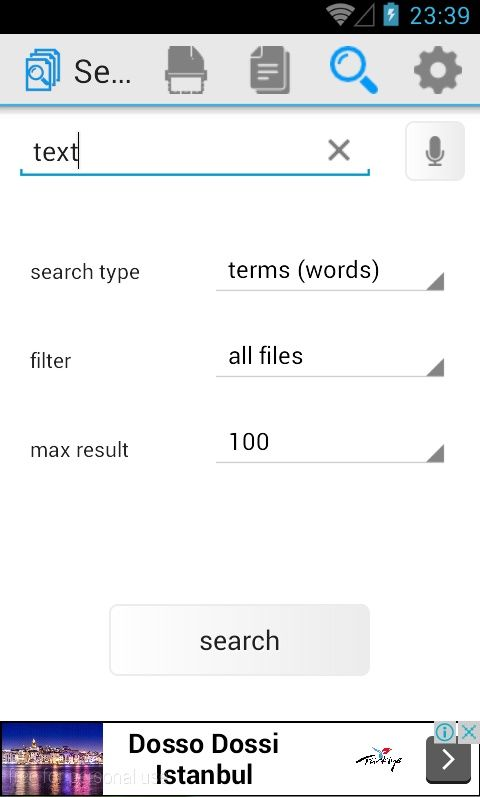searchIcon: (328, 34, 385, 100), (28, 62, 52, 88)
